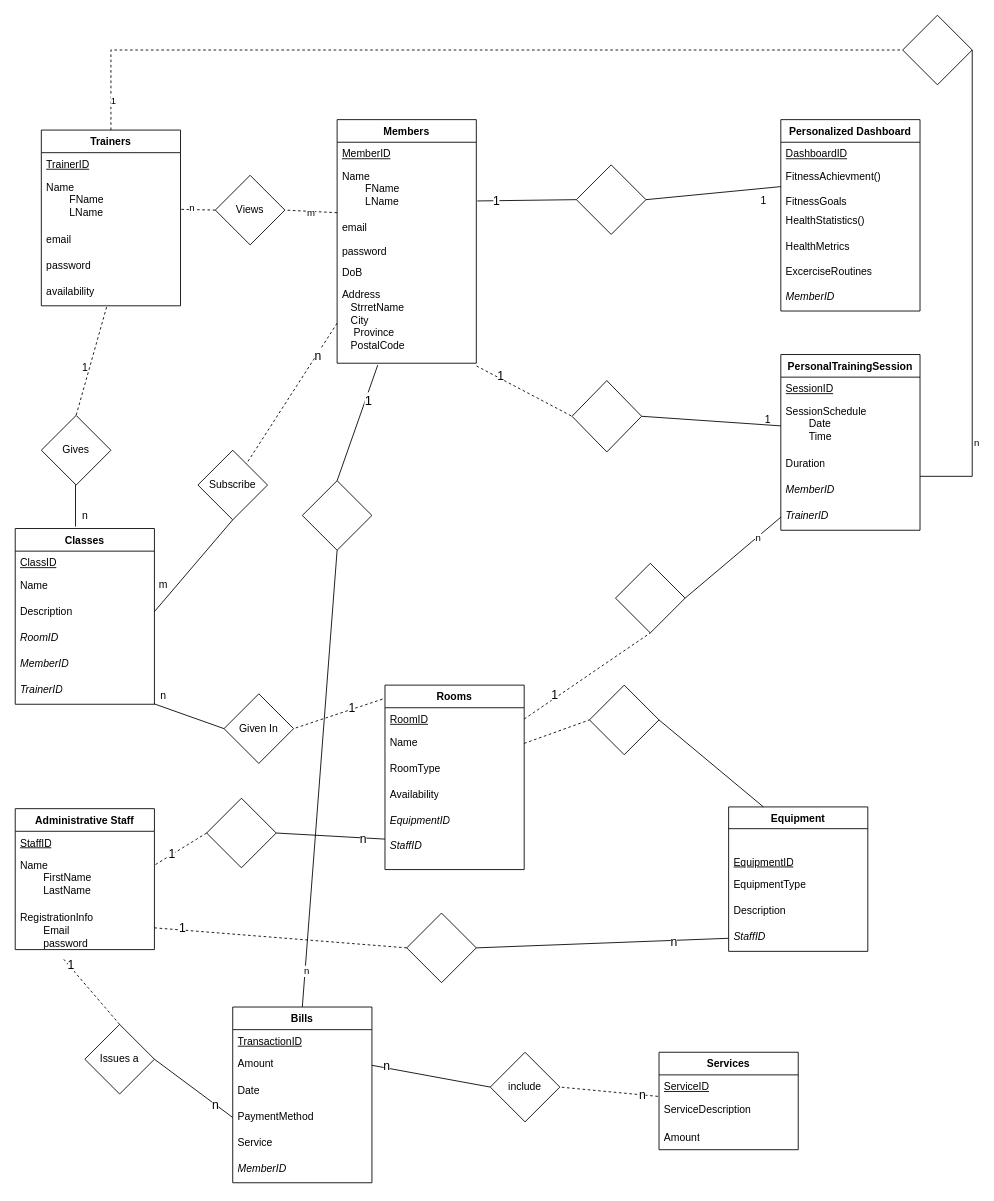
The diagram is 994 pixels wide and 1201 high, and some of its shapes have lost their labels. The centre of each missing label's shape, as x and y in pixels:
"Book" goes at [241,832].
"Has" goes at [611,199].
"Is in" goes at [624,719].
"Monitors" goes at [441,947].
"Pays" goes at [336,515].
"Taken In" goes at [650,597].
"Takes" goes at [606,416].
"Trains" goes at [937,49].
